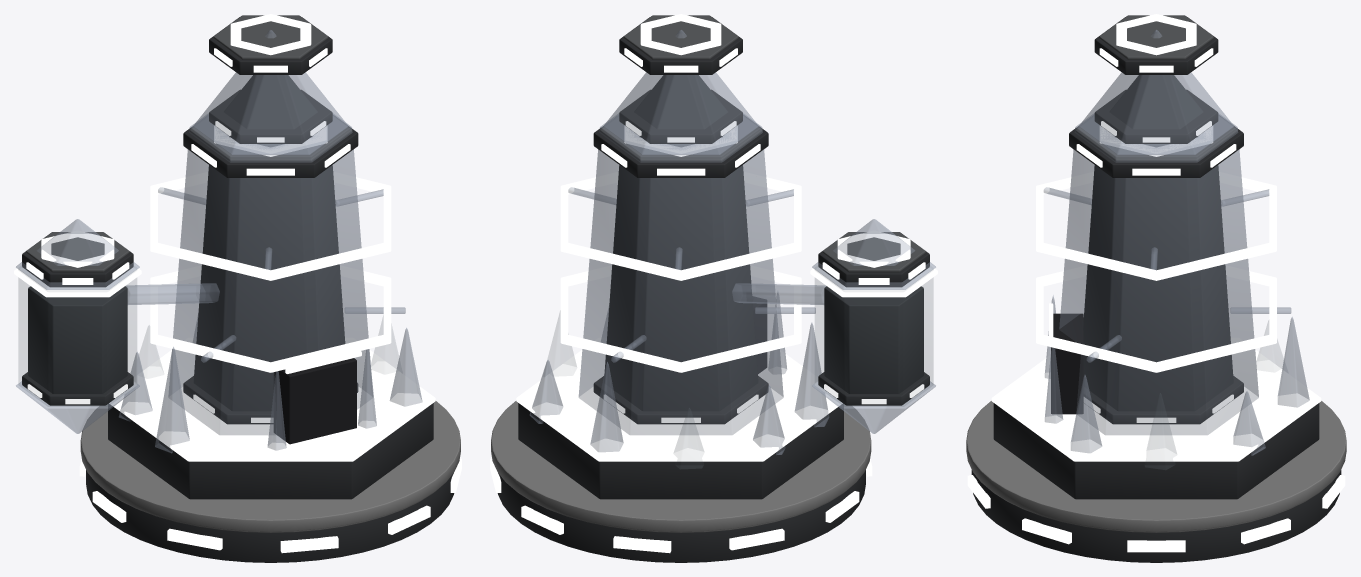
The model's file is Skin_Crystal_T1.glb.
3 renders of one model, left to right at view 1: azimuth 30°, elevation 25°; view 2: azimuth 150°, elevation 25°; view 3: azimuth 270°, elevation 25°, orthographic.
Parts seen in each view (by area): view 1: Skin_Crystal_T1; view 2: Skin_Crystal_T1; view 3: Skin_Crystal_T1.
Part boxes in pixels (x1=…): Skin_Crystal_T1: x1=14, y1=14, x2=461, y2=562; Skin_Crystal_T1: x1=490, y1=14, x2=937, y2=562; Skin_Crystal_T1: x1=966, y1=14, x2=1346, y2=562.
Size of the model in its own units: 4.31 by 4.62 by 3.5.
